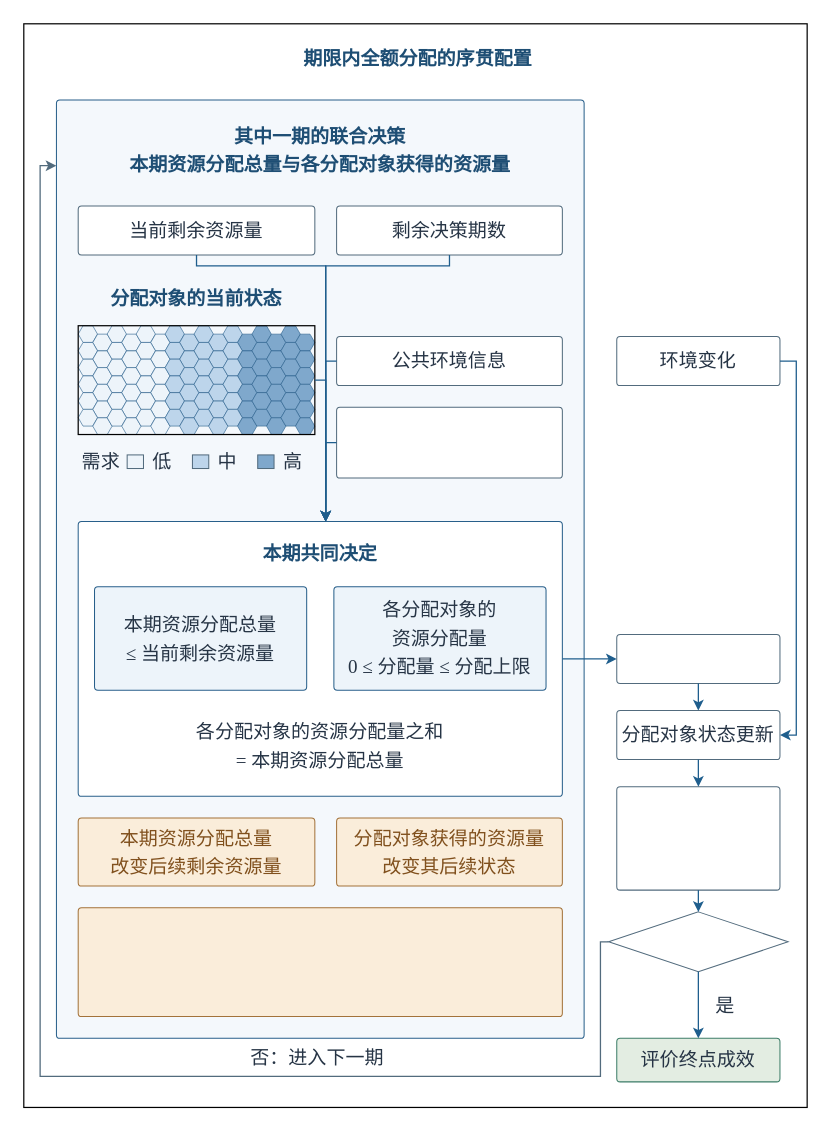
Image size: 831x1132. Some labels were removed from this diagram. The shapes that lost their labels are listed below. From the top down, each one's box as (x1, y1, x2, y2) in pixels, then its label:
(335, 406, 562, 478): 各分配对象的 资源分配量上限
(616, 633, 780, 683): 执行分配方案
(616, 786, 780, 890): 按本期资源 分配总量扣减 剩余资源量
(77, 907, 562, 1016): 如何在期限内分完初始资源， 共同安排各期资源分配总量 与各分配对象获得的资源量？
(607, 911, 788, 972): 到达任务期限？
